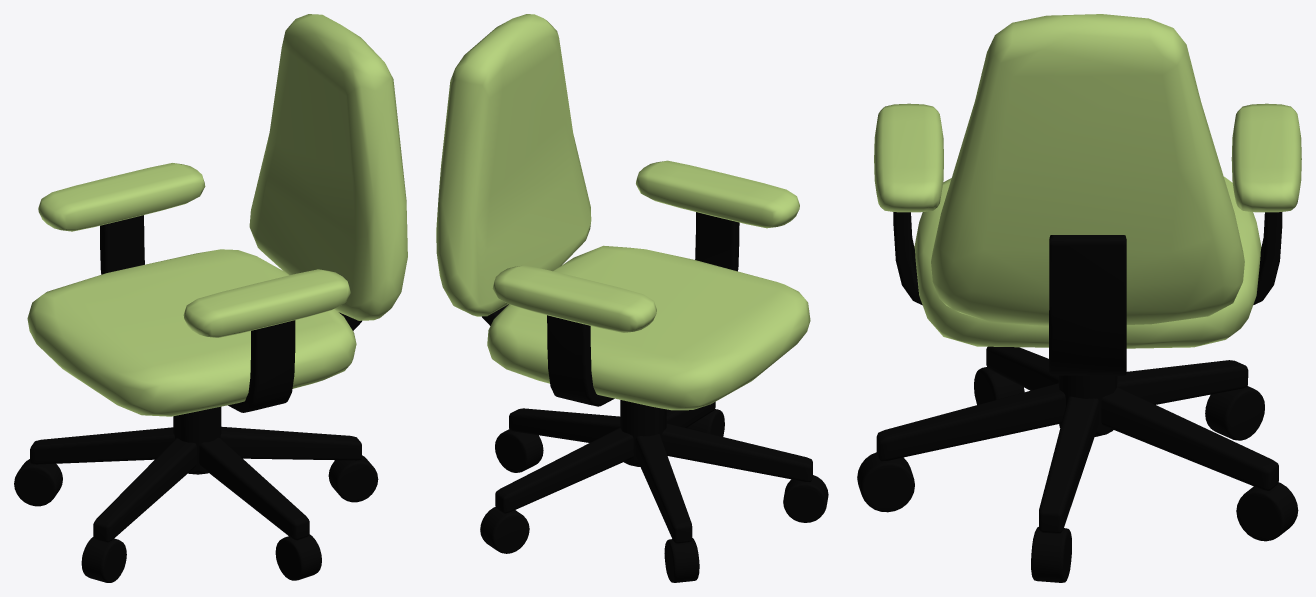
File: office_chair_green.fbx
The picture shows the model from 3 angles, left to right: view 1: azimuth 30°, elevation 25°; view 2: azimuth 150°, elevation 25°; view 3: azimuth 270°, elevation 25°; orthographic projection. The views are drawn at different scales.
Parts seen in each view (by area): view 1: office_chair_green; view 2: office_chair_green; view 3: office_chair_green.
Boxes of the visible parts, left/top/right/bottom form: office_chair_green: left=14, top=14, right=407, bottom=582; office_chair_green: left=436, top=14, right=828, bottom=582; office_chair_green: left=857, top=14, right=1301, bottom=582.
Bounding box in the file's own units: 76.26 × 103 × 73.42.
Materials: 2 (2 with a texture image).
